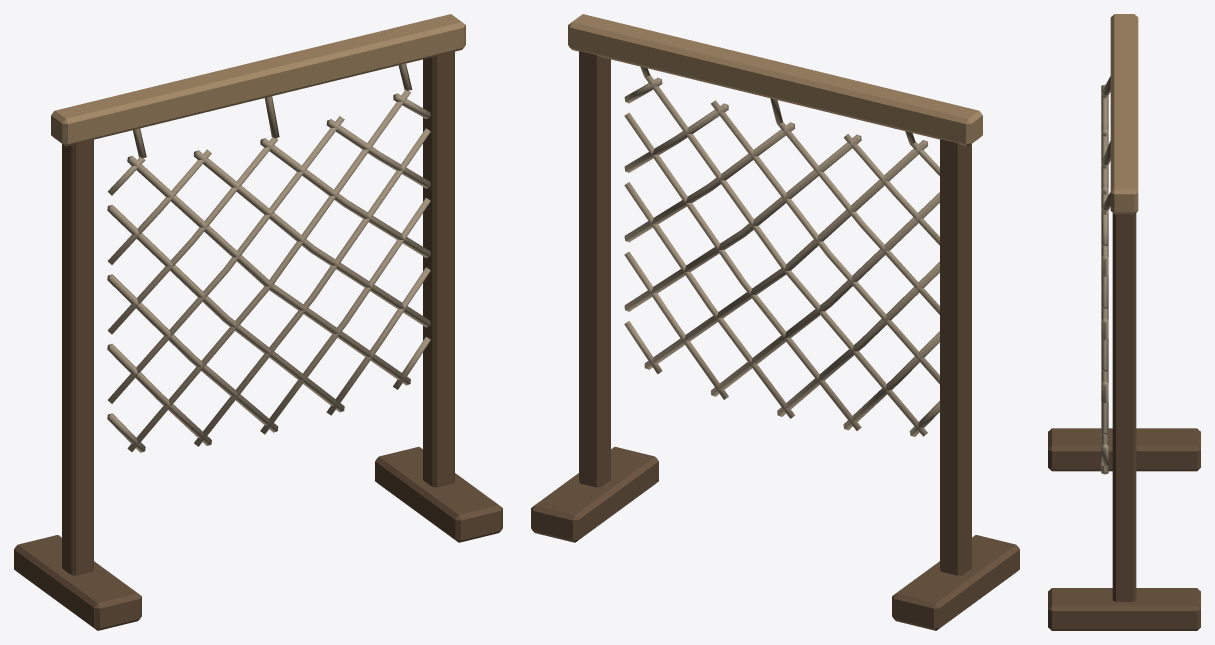
Rendered from fishing_net_rack.glb.
3 renders of one model, left to right at view 1: azimuth 30°, elevation 25°; view 2: azimuth 150°, elevation 25°; view 3: azimuth 270°, elevation 25°, orthographic. The views are drawn at different scales.
Visible parts, largest first — view 1: fishing_net_rack; view 2: fishing_net_rack; view 3: fishing_net_rack.
Part boxes in pixels (x1,y1,x2,y2): fishing_net_rack: [14, 14, 502, 630]; fishing_net_rack: [531, 14, 1019, 630]; fishing_net_rack: [1048, 14, 1200, 630].
Size of the model in its own units: 1.54 by 1.75 by 0.55.
